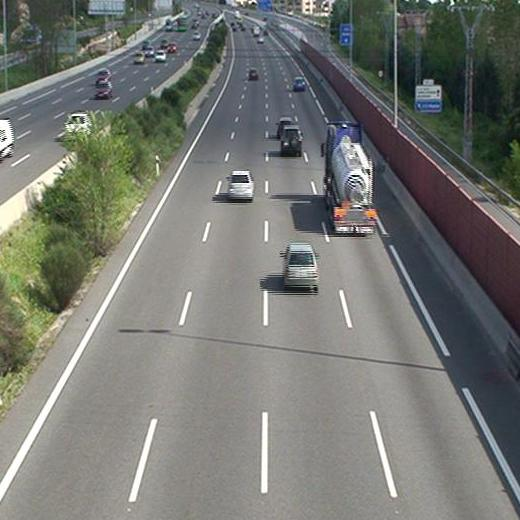car: (279, 245, 319, 290), (225, 171, 255, 200), (281, 124, 303, 156), (248, 66, 260, 82), (292, 76, 305, 90)
tank-truck: (318, 121, 376, 235)
